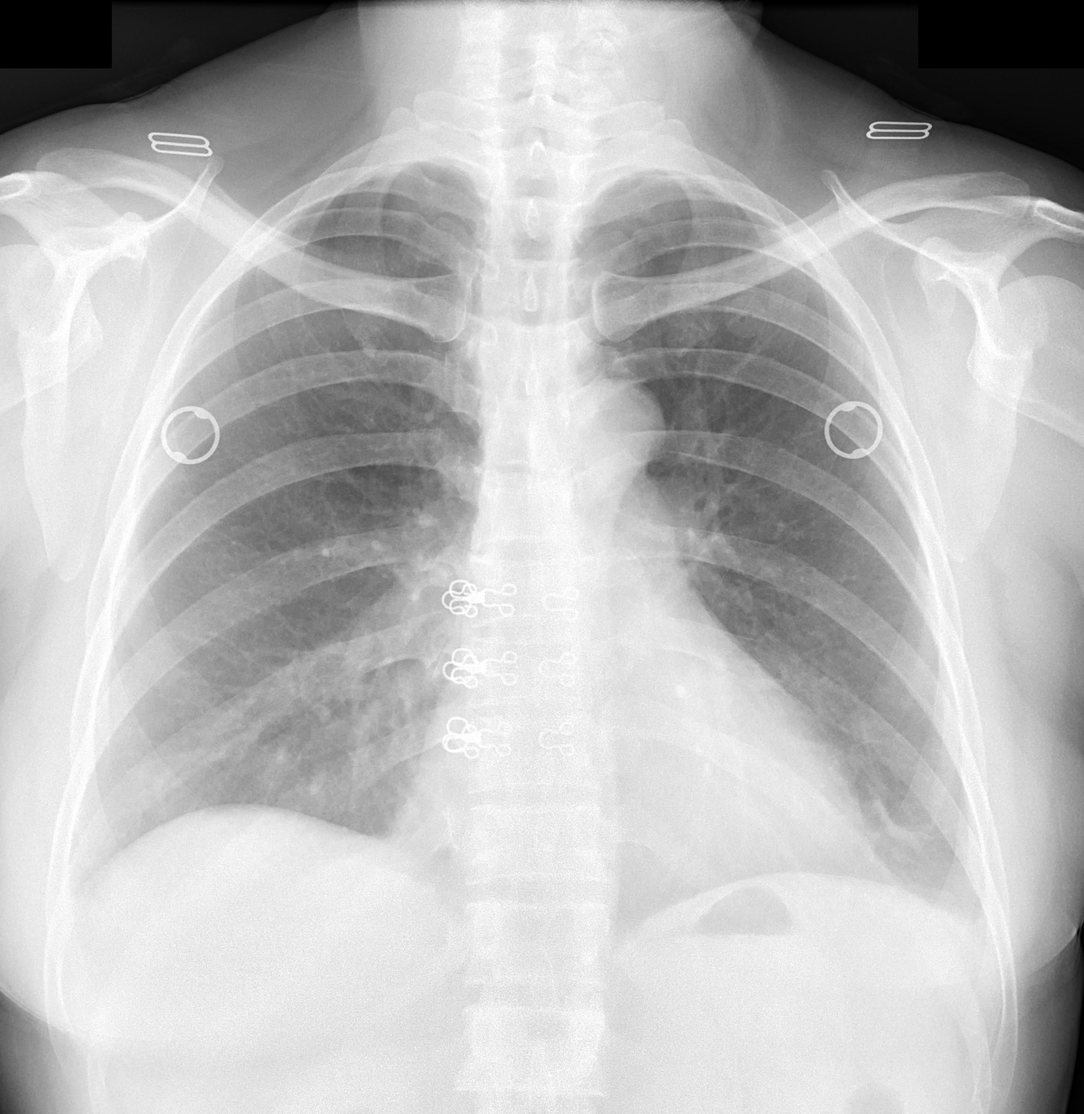Aortic enlargement: (534, 373, 673, 495)
Cardiomegaly: (385, 740, 903, 895)
Pulmonary fibrosis: (866, 777, 929, 854)
